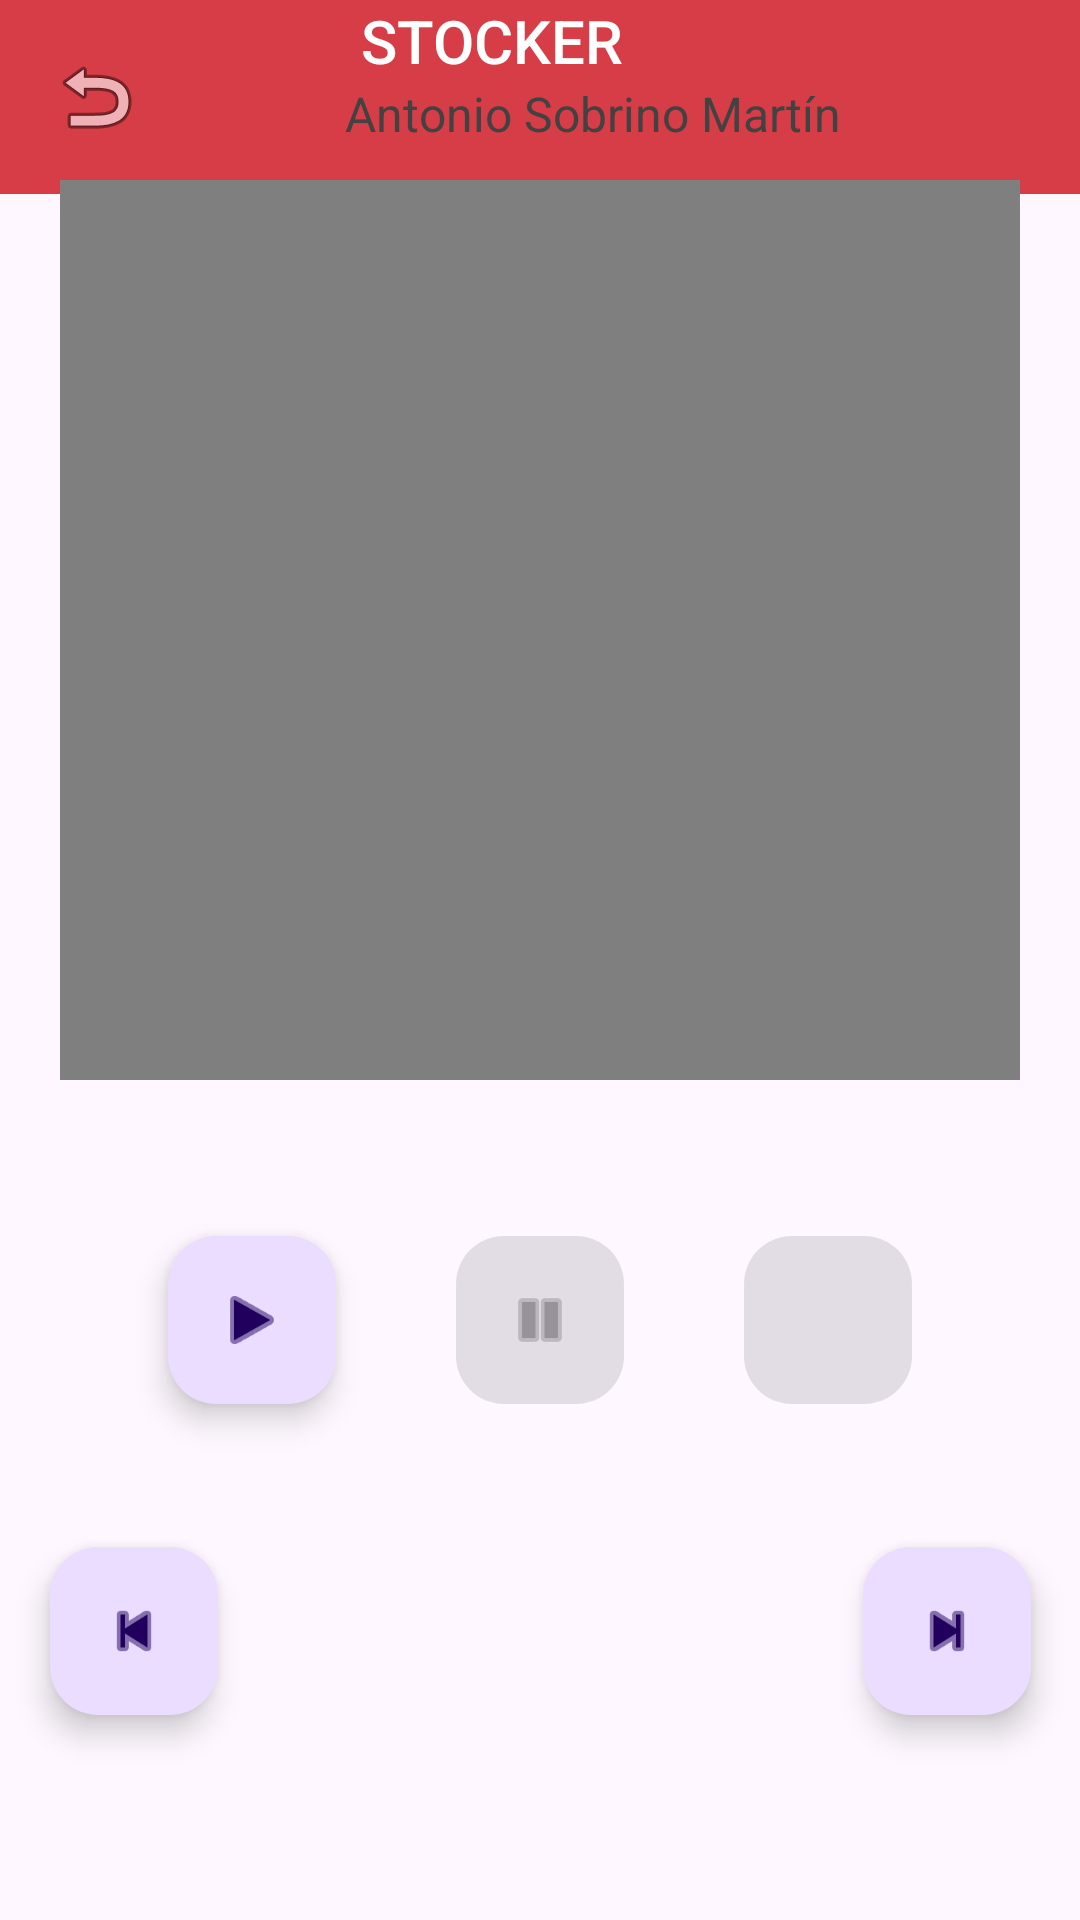

Where to tap for icons on this 1080px×1920px app screen, as [x,y]:
next: [947,1631]
pause: [540,1320]
play: [252,1320]
previous: [134,1631]
revert: [97,97]
